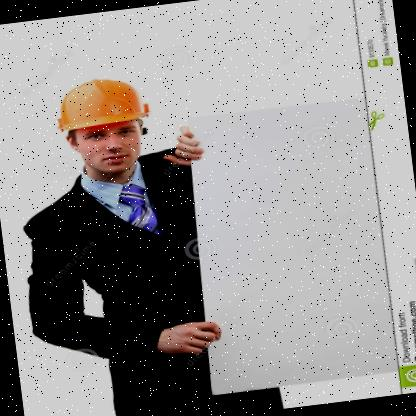capacete: (48, 72, 160, 179)
sem_colete_refletivo: (6, 153, 214, 379)
